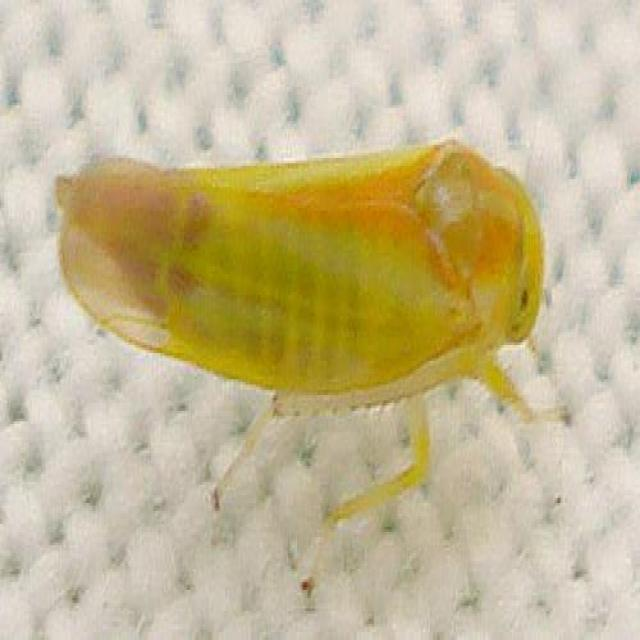green leaf hopper: (55, 139, 559, 595)
